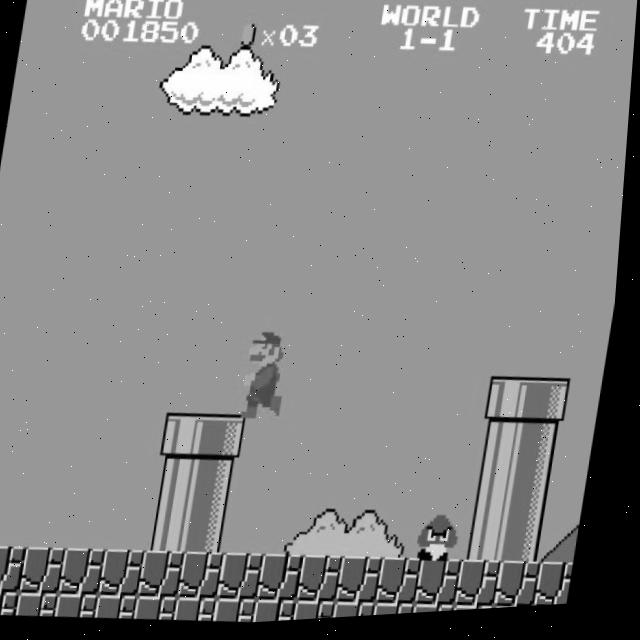0- big_mario: (242, 325, 298, 424)
14- pipe: (159, 459, 207, 510), (153, 504, 201, 555), (199, 460, 247, 511), (192, 506, 240, 557), (476, 472, 524, 523), (516, 473, 564, 524), (509, 519, 557, 570), (470, 517, 517, 569), (483, 427, 531, 477), (523, 428, 570, 478)
15- pipe_head: (489, 380, 537, 431), (529, 382, 577, 433), (166, 413, 214, 463), (206, 415, 254, 465)
17- undestructible_block: (146, 550, 194, 602), (27, 546, 75, 597), (66, 547, 114, 598), (106, 549, 154, 600), (186, 552, 234, 603), (225, 554, 273, 605), (265, 555, 313, 606), (305, 557, 353, 608), (344, 559, 392, 610), (384, 560, 432, 611), (463, 564, 511, 615), (503, 565, 551, 615), (424, 562, 471, 613), (543, 566, 582, 613), (0, 544, 35, 595), (103, 594, 147, 623), (182, 598, 227, 626), (24, 591, 68, 619), (64, 593, 108, 621), (143, 596, 187, 624), (222, 599, 266, 627), (262, 600, 306, 626), (302, 602, 346, 624), (341, 603, 385, 622), (0, 590, 28, 618), (381, 606, 424, 621), (421, 607, 464, 619), (461, 609, 504, 617)
8- goomba: (421, 515, 471, 570)
